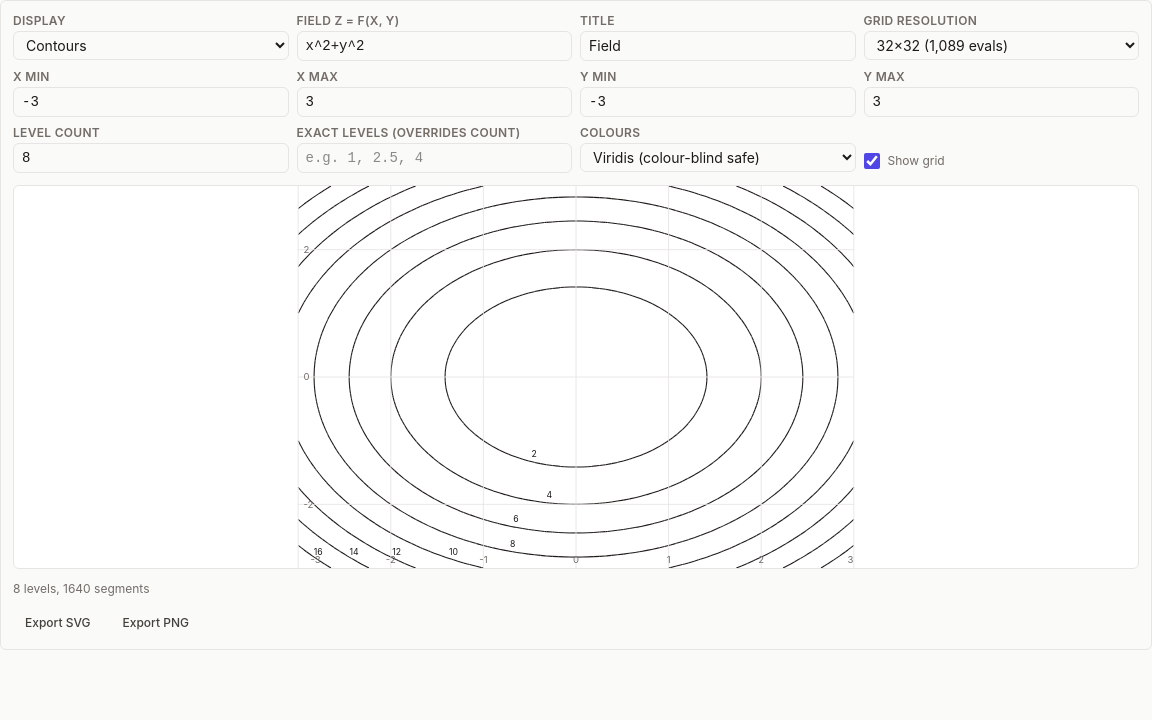
Test: 2D field view › rejects garbage level lists instead of guessing
The image size is (1152, 720).
Type "1, nope" into the field named "Exact contour levels" at (434,158), box 296,143 -> 572,173
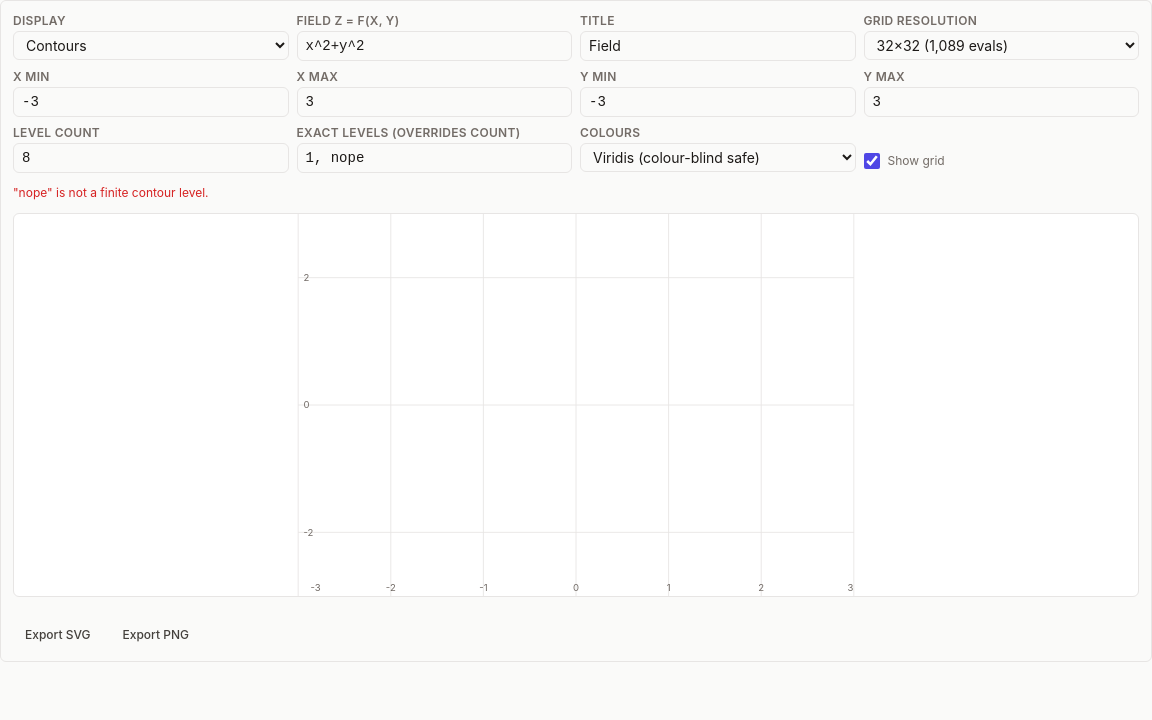
expect the message with test id "field-error" shows "not a finite contour level": met, box 13,185 -> 208,200
